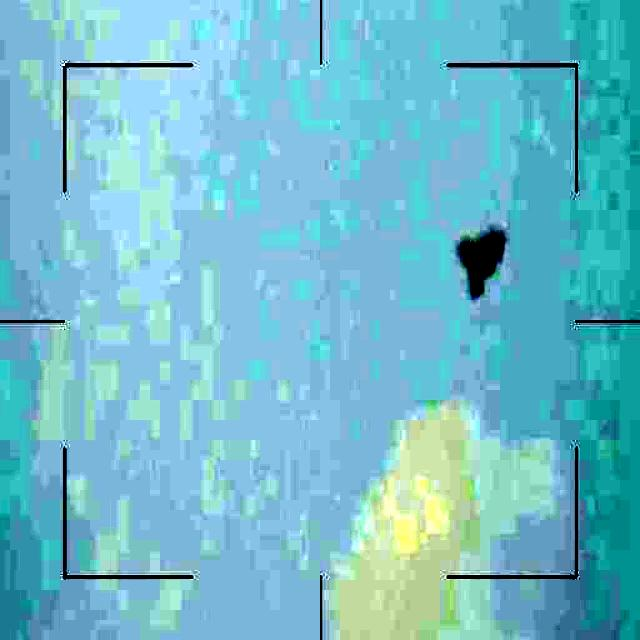bird: (452, 222, 505, 298)
